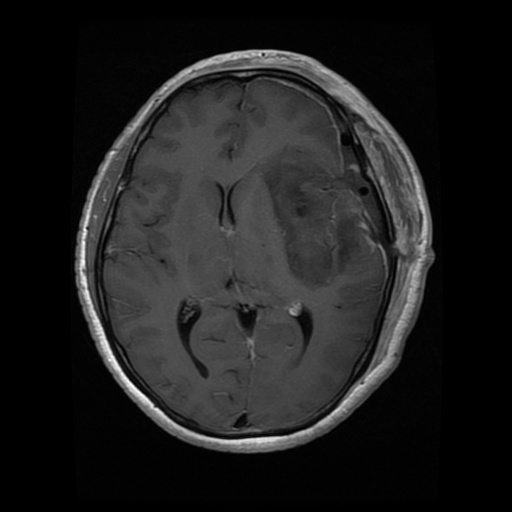glioma: (258, 146, 384, 289)
